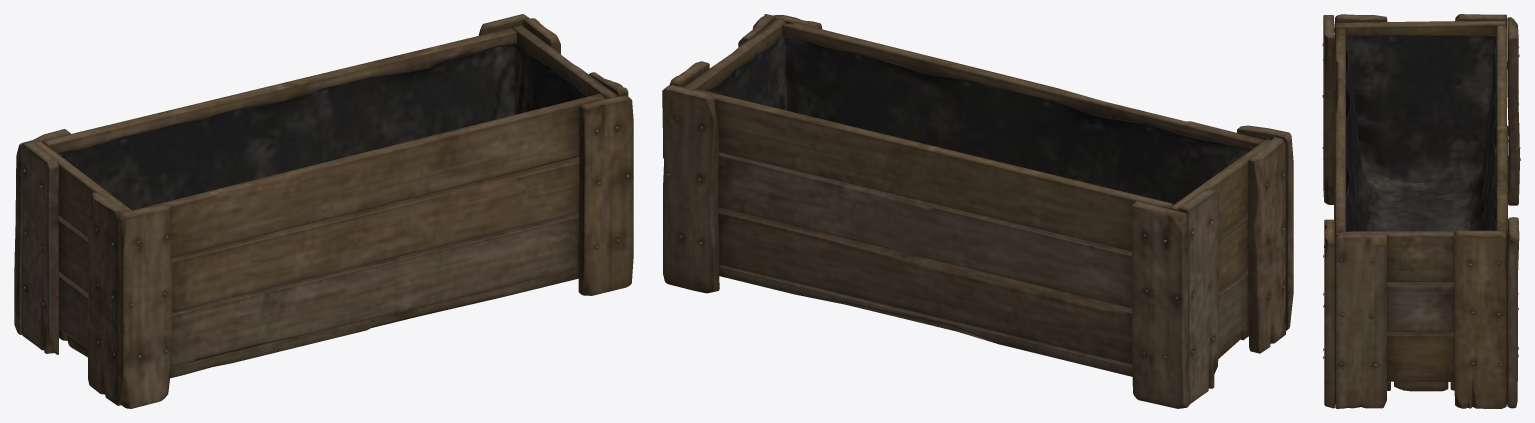
Rendered from planter_box_02.glb.
3 renders of one model, left to right at view 1: azimuth 30°, elevation 25°; view 2: azimuth 150°, elevation 25°; view 3: azimuth 270°, elevation 25°, orthographic. The views are drawn at different scales.
Visible parts, largest first — view 1: planter_box_02; view 2: planter_box_02; view 3: planter_box_02.
Boxes of the visible parts, box(x1,y1,x2,y2) form: planter_box_02: box(14, 14, 633, 408); planter_box_02: box(662, 14, 1293, 408); planter_box_02: box(1322, 14, 1520, 408).
Size of the model in its own units: 1.25 by 0.4534 by 0.4672.
Materials: 1 (1 with a texture image).
